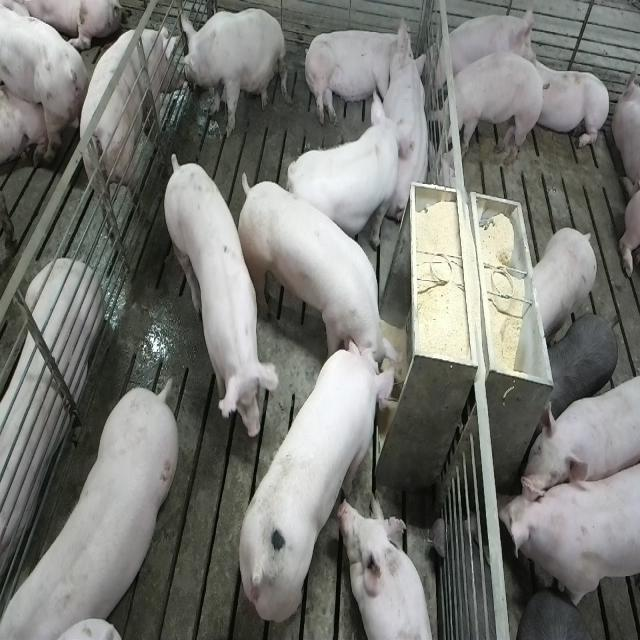Feeding: (236, 334, 400, 624), (232, 168, 400, 382)
Lateral_lying: (302, 15, 417, 128)
Sitting: (179, 7, 286, 138)
Standing: (5, 375, 183, 636), (161, 148, 276, 444), (500, 448, 638, 616), (76, 18, 179, 230), (285, 91, 404, 252), (521, 365, 638, 504), (0, 0, 86, 160), (434, 53, 547, 172), (545, 311, 618, 426), (530, 227, 598, 344), (519, 592, 609, 640)
Sternal_lying: (0, 259, 100, 591), (343, 494, 437, 640), (382, 38, 434, 231), (524, 44, 611, 153)
